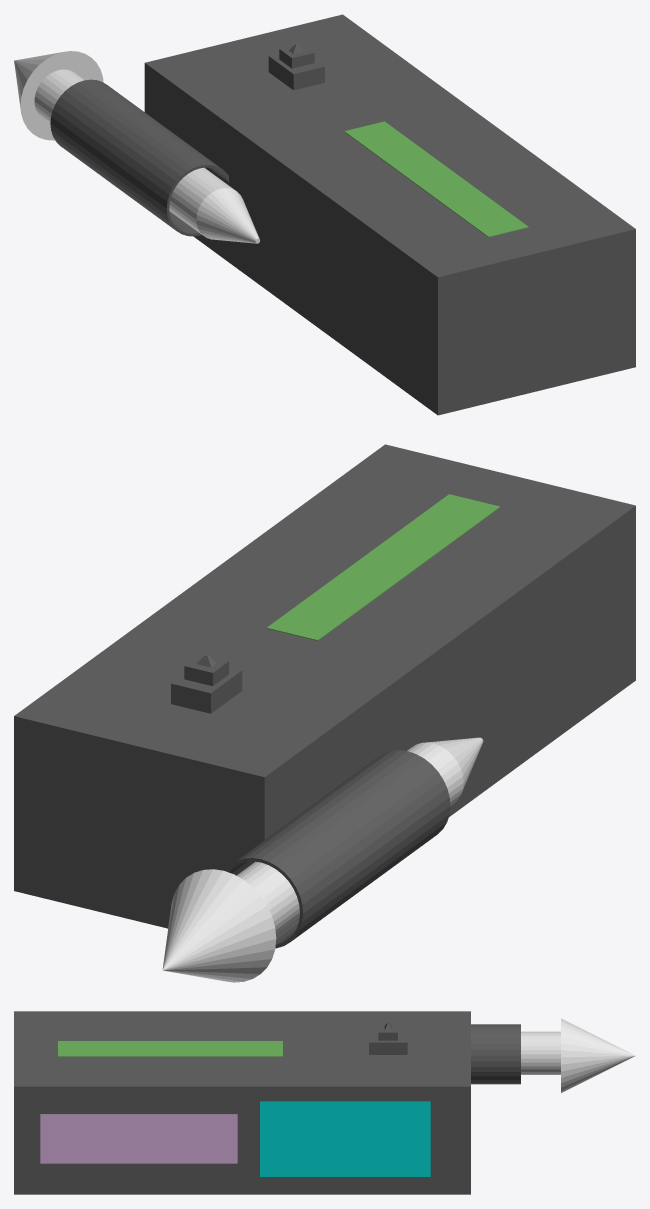
The model's file is HandLeft.fbx.
The picture shows the model from 3 angles, top to bottom: view 1: azimuth 30°, elevation 25°; view 2: azimuth 150°, elevation 25°; view 3: azimuth 270°, elevation 25°; orthographic projection. The views are drawn at different scales.
Parts seen in each view (by area): view 1: Cube.001, Gizmo Holder, Gizmo, Jauge; view 2: Cube.001, Gizmo Holder, Gizmo, Jauge; view 3: Cube.001, Screen 2, Screen 1, Gizmo, Jauge, Gizmo Holder.
Part boxes in pixels (<box>): Cube.001: <box>144,14,635,415</box>; Gizmo Holder: <box>50,79,228,236</box>; Gizmo: <box>14,51,260,243</box>; Jauge: <box>344,121,528,237</box>; Cube.001: <box>14,444,635,928</box>; Gizmo Holder: <box>225,750,450,948</box>; Gizmo: <box>162,737,483,982</box>; Jauge: <box>266,494,500,640</box>; Cube.001: <box>14,1011,470,1194</box>; Screen 2: <box>260,1101,430,1176</box>; Screen 1: <box>40,1114,237,1163</box>; Gizmo: <box>521,1018,635,1092</box>; Jauge: <box>58,1041,282,1056</box>; Gizmo Holder: <box>471,1024,520,1084</box>.
Bounding box in the file's own units: 8.04 × 4.96 × 20.94.
